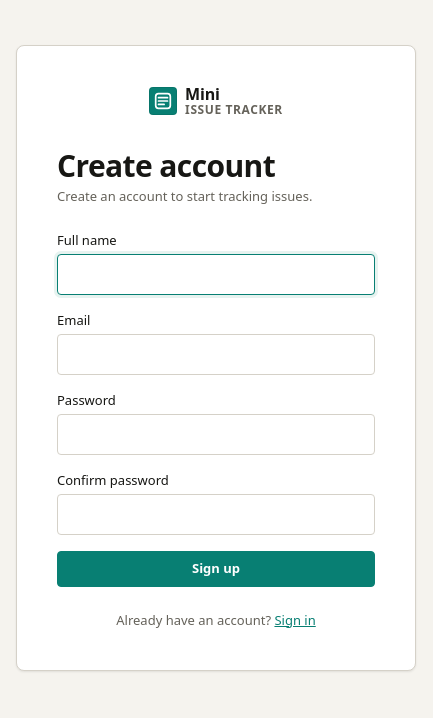
Test: SignupPage › focuses the confirm field when passwords do not match
Type "Alice Smith" into the field labelled "Full name".
click(216, 274); type("Alice Smith")  # box x1=57 y1=254 x2=375 y2=295
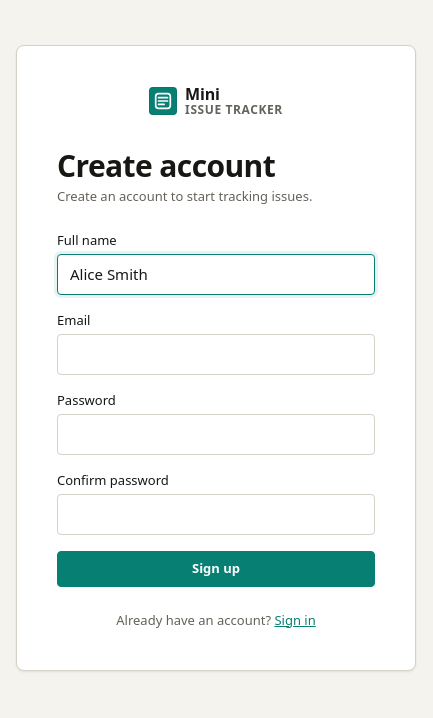
Type "a@b.com" into the field labelled "Email".
click(216, 354); type("a@b.com")  # box x1=57 y1=334 x2=375 y2=375
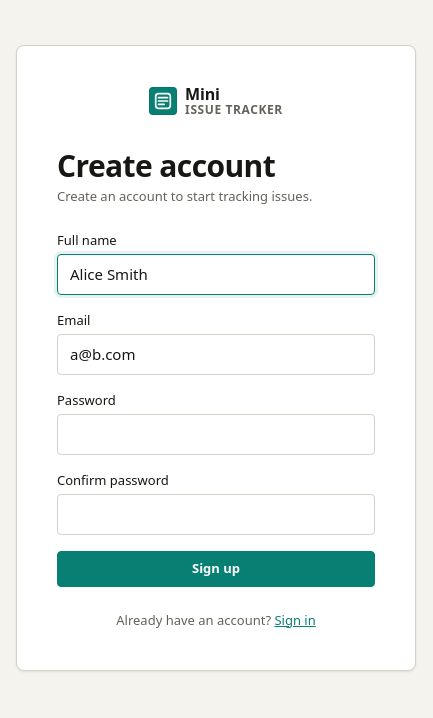
Type "secret123" into the password field labelled "Password".
click(216, 434); type("secret123")  # box x1=57 y1=414 x2=375 y2=455
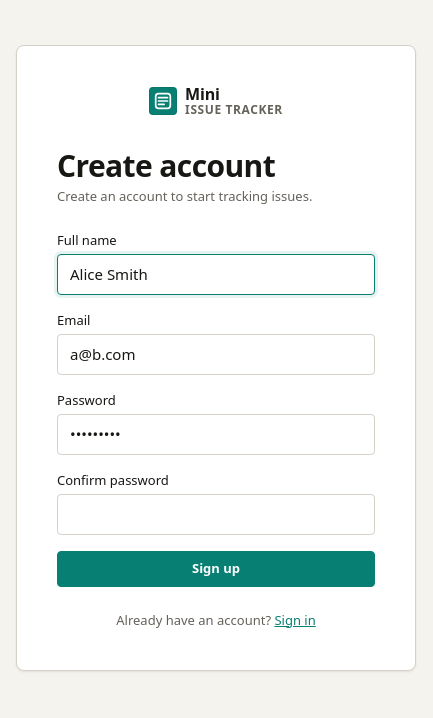
Type "different" into the password field labelled "Confirm password".
click(216, 514); type("different")  # box x1=57 y1=494 x2=375 y2=535
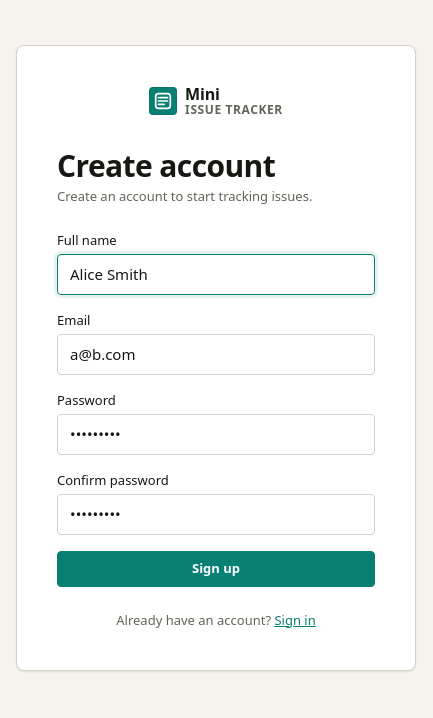
Click the button "Sign up".
click(216, 569)  # box x1=57 y1=551 x2=375 y2=587
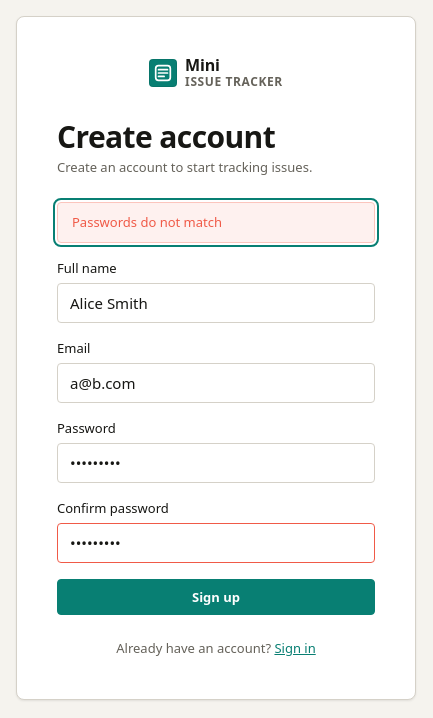
Now the message reads "Passwords do not match", box x1=72 y1=213 x2=222 y2=231
